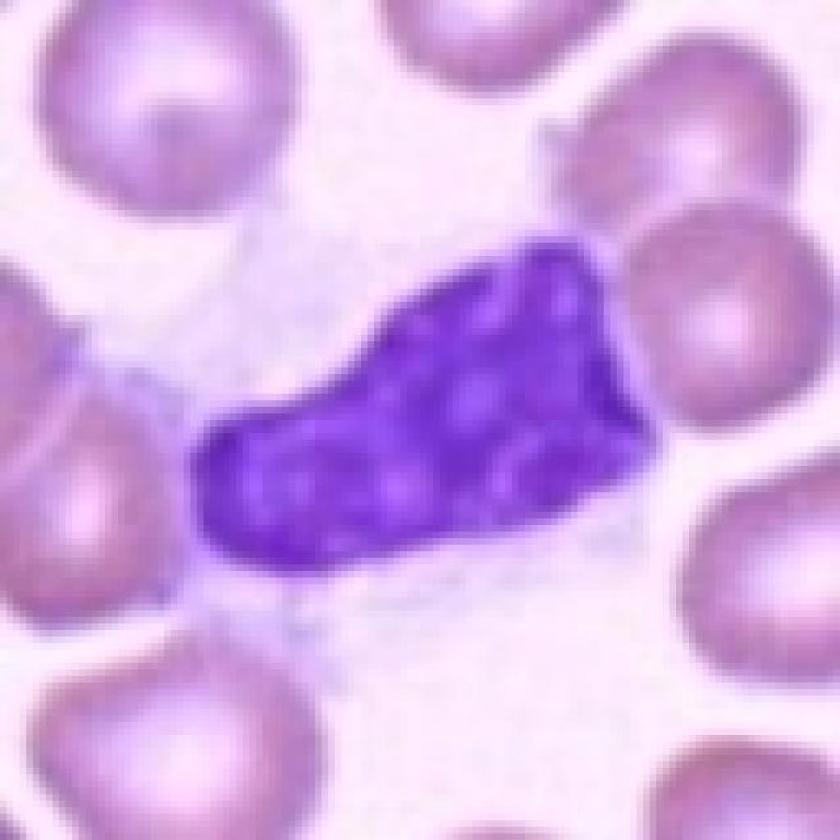lymphocyte: (158, 217, 671, 629)
